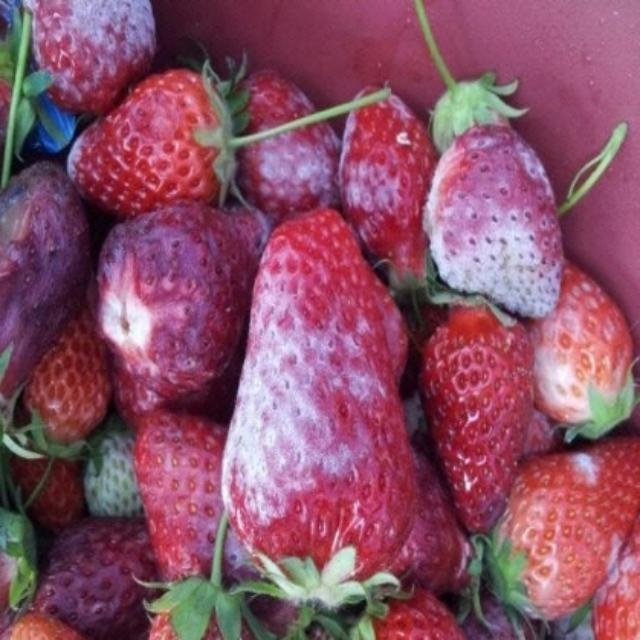Powdery Mildew Fruit: (219, 207, 420, 602), (485, 435, 640, 624), (422, 123, 564, 321), (339, 85, 442, 290), (224, 67, 344, 217), (28, 0, 158, 113), (592, 512, 640, 638), (65, 118, 110, 201)
